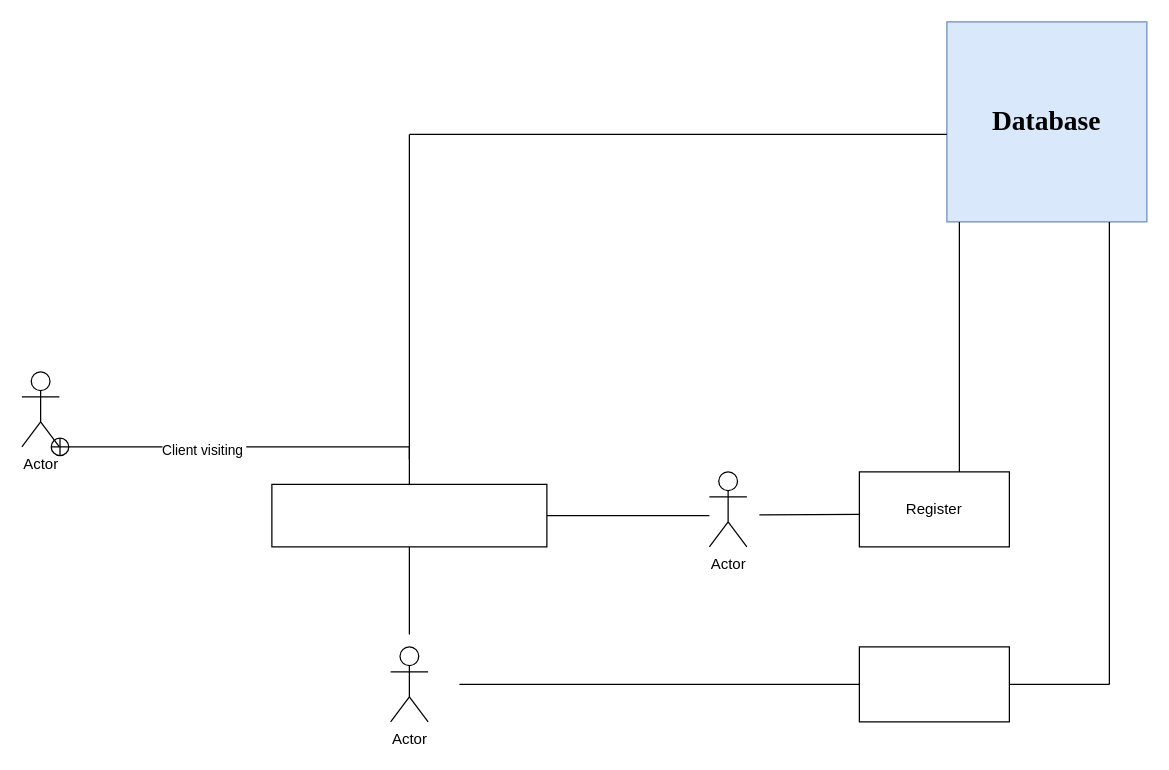
This 1169x770 diagram has some shape labels left out. The shapes that lost their labels are listed below. From the top down, each one's centre as x and y in pixels, then its label:
At (409,515): "KDA Website".
At (933,684): "Login".
